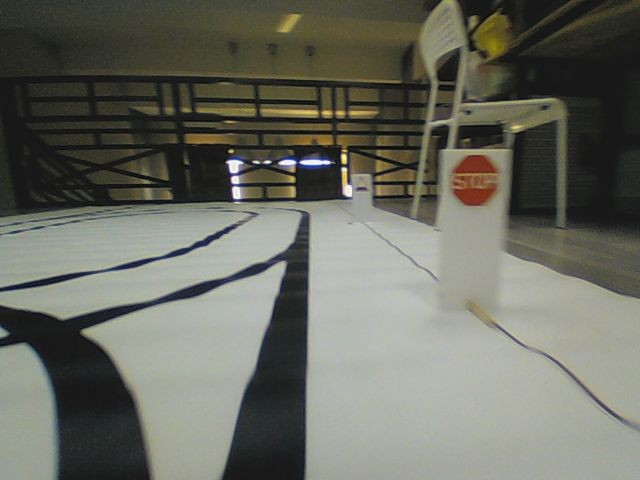Stop: (451, 153, 500, 206)
